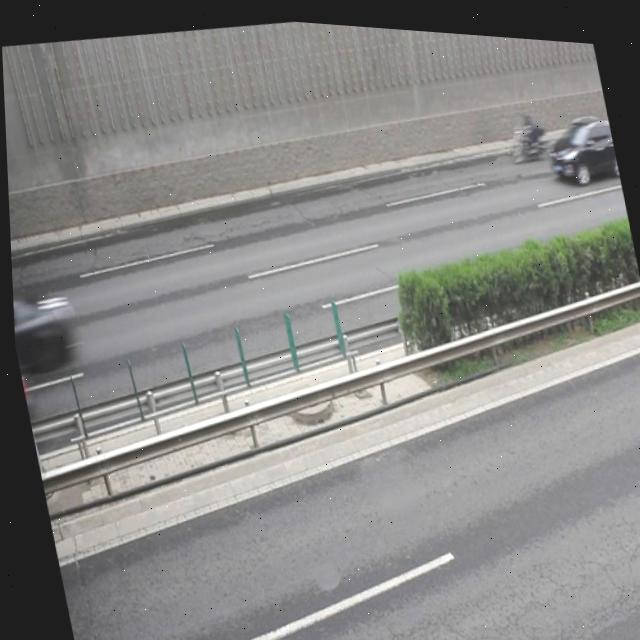car: (537, 98, 620, 184)
